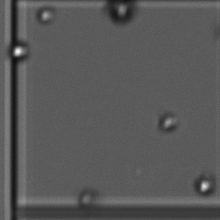Living Cell: (102, 1, 139, 28), (190, 173, 218, 197), (157, 109, 180, 134), (7, 41, 31, 62), (76, 188, 100, 209), (34, 5, 59, 25)
